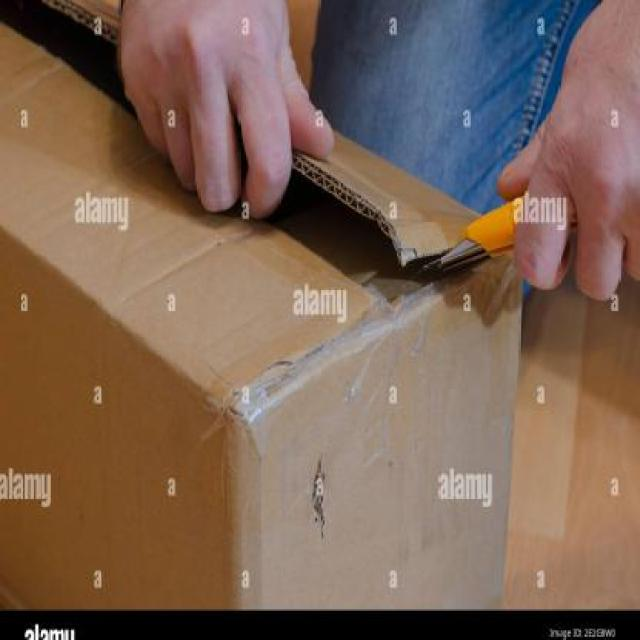box: (2, 0, 523, 609)
